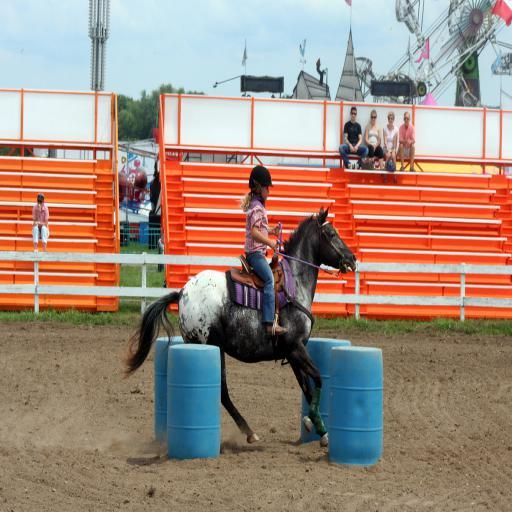Horse: (119, 207, 358, 449)
